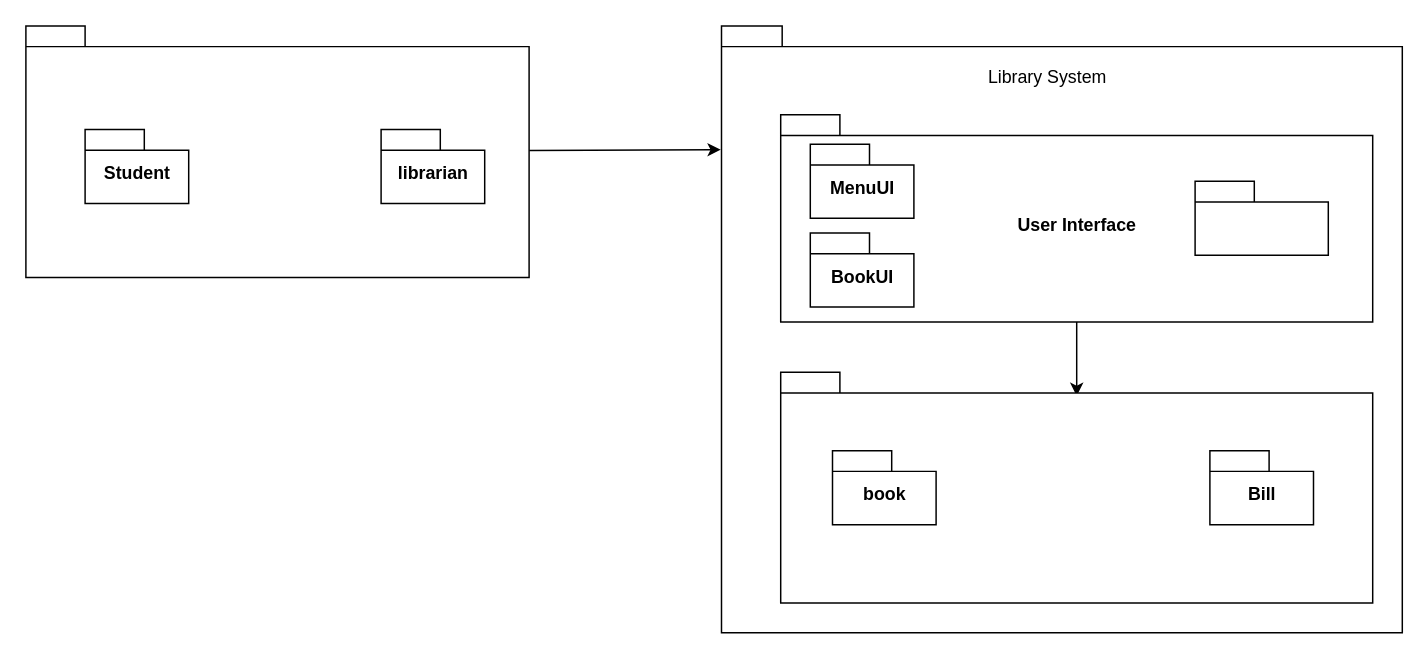
This 1428x659 diagram has some shape labels left out. Here are the shapes that lost their labels. From the top down, the box of each, then its label:
(24, 24, 529, 278): User
(1194, 180, 1328, 255): BookDetailUI
(779, 371, 1373, 603): library
